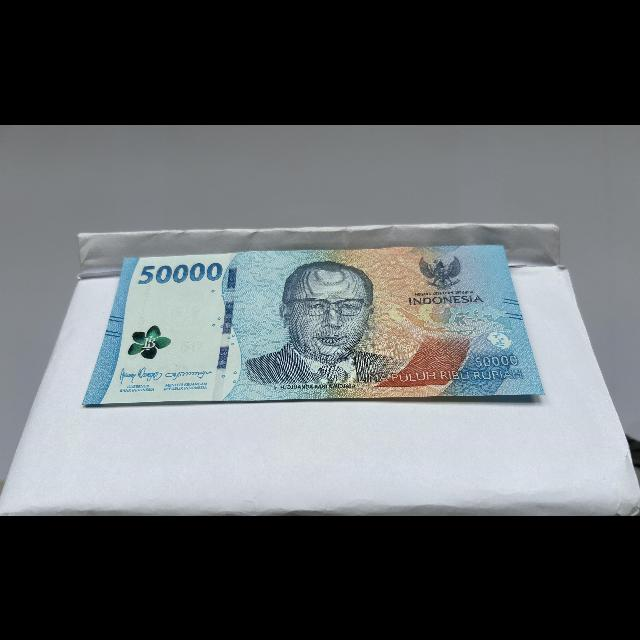Asli-50k: (76, 239, 548, 408)
Tinta-Asli-50k: (119, 318, 178, 364)
